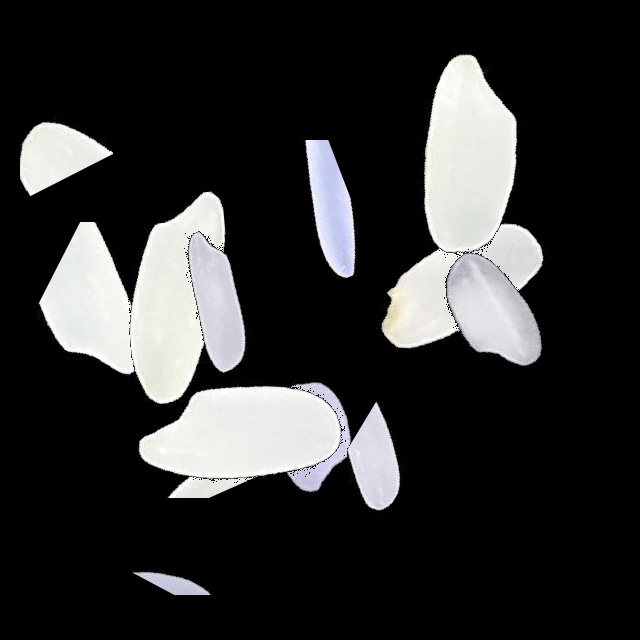Broken: (4, 222, 254, 383), (155, 140, 405, 279), (342, 352, 478, 602), (72, 391, 322, 498), (13, 227, 263, 334), (62, 490, 312, 595), (20, 0, 113, 250), (483, 62, 561, 312)
Full: (331, 159, 581, 409), (183, 311, 433, 561), (52, 174, 302, 424), (341, 31, 591, 281), (117, 315, 367, 565), (91, 173, 341, 423), (368, 187, 618, 437)
